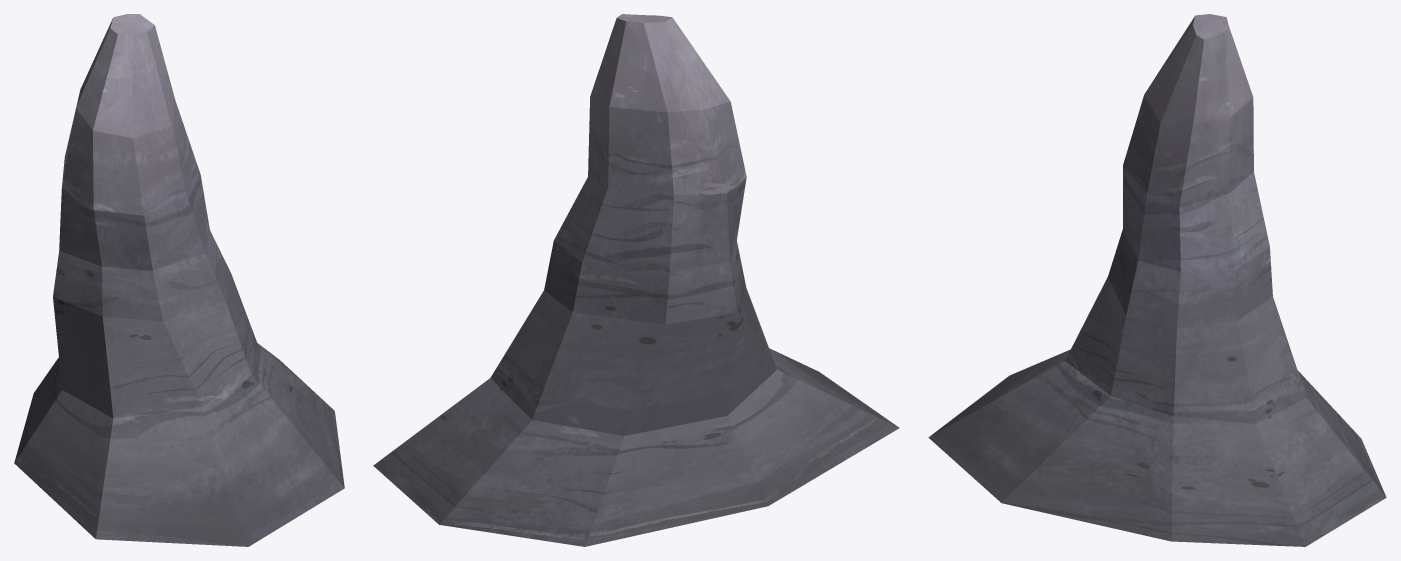
File: spire2.fbx
3 views of the same model, side by side, from view 1: azimuth 30°, elevation 25°; view 2: azimuth 150°, elevation 25°; view 3: azimuth 270°, elevation 25° (orthographic). The views are drawn at different scales.
Parts seen in each view (by area): view 1: spire2; view 2: spire2; view 3: spire2.
Boxes of the visible parts, x1,y1,x2,y2 form: spire2: (14, 14, 344, 546); spire2: (373, 14, 899, 546); spire2: (928, 14, 1386, 546).
Size of the model in its own units: 235 by 287 by 278.
